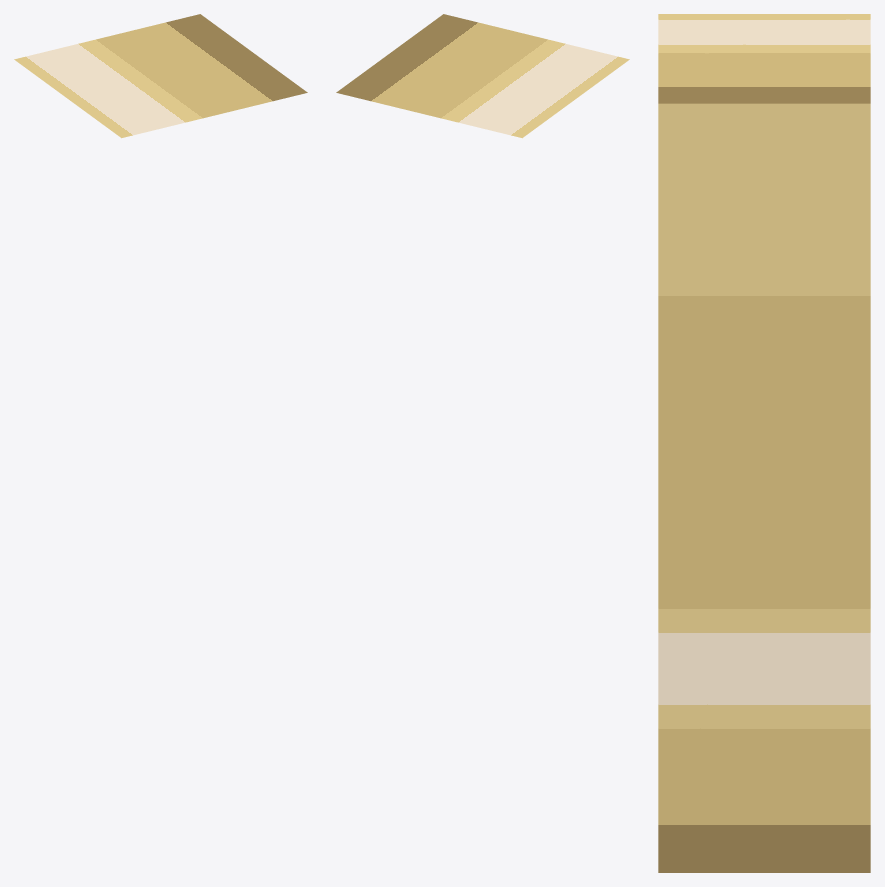
3 renders of one model, left to right at view 1: azimuth 30°, elevation 25°; view 2: azimuth 150°, elevation 25°; view 3: azimuth 270°, elevation 25°, orthographic.
Size of the model in its own units: 1 by 4 by 1.
Materials: 1 (1 with a texture image).
